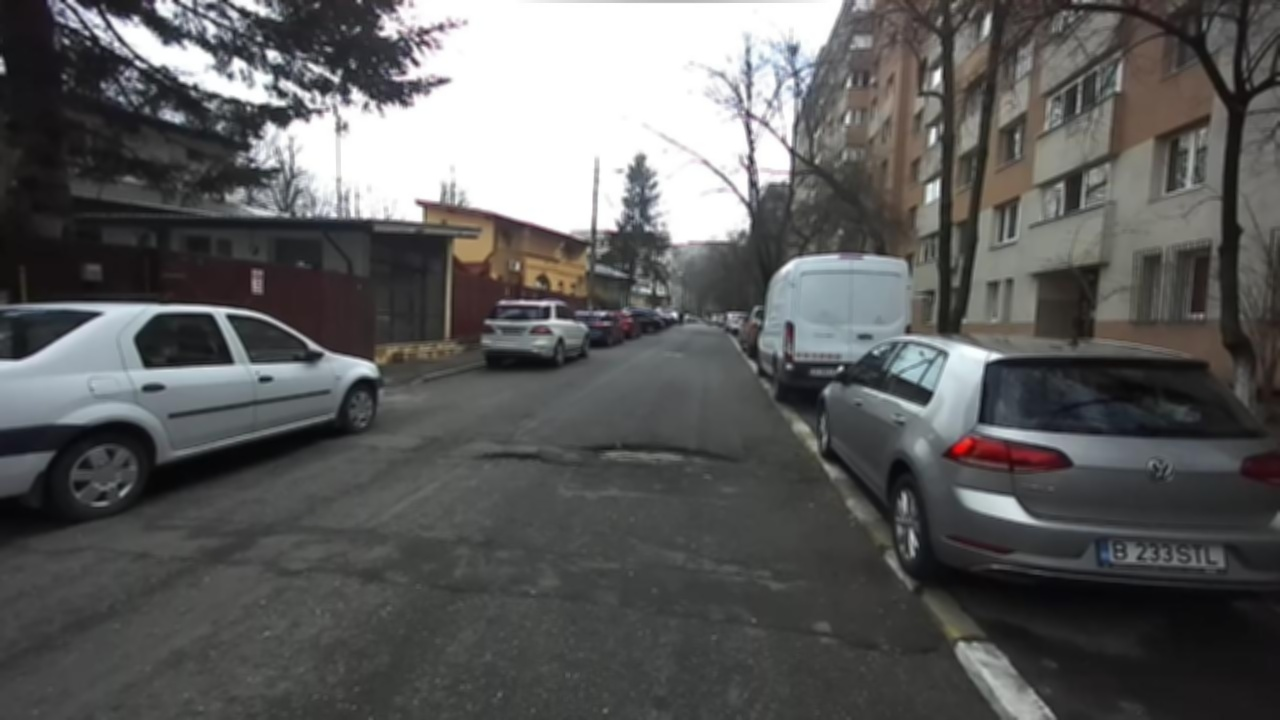pothole: (798, 621, 938, 660), (580, 436, 744, 469), (472, 450, 548, 464)
